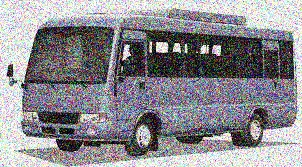bus: (20, 11, 295, 153)
